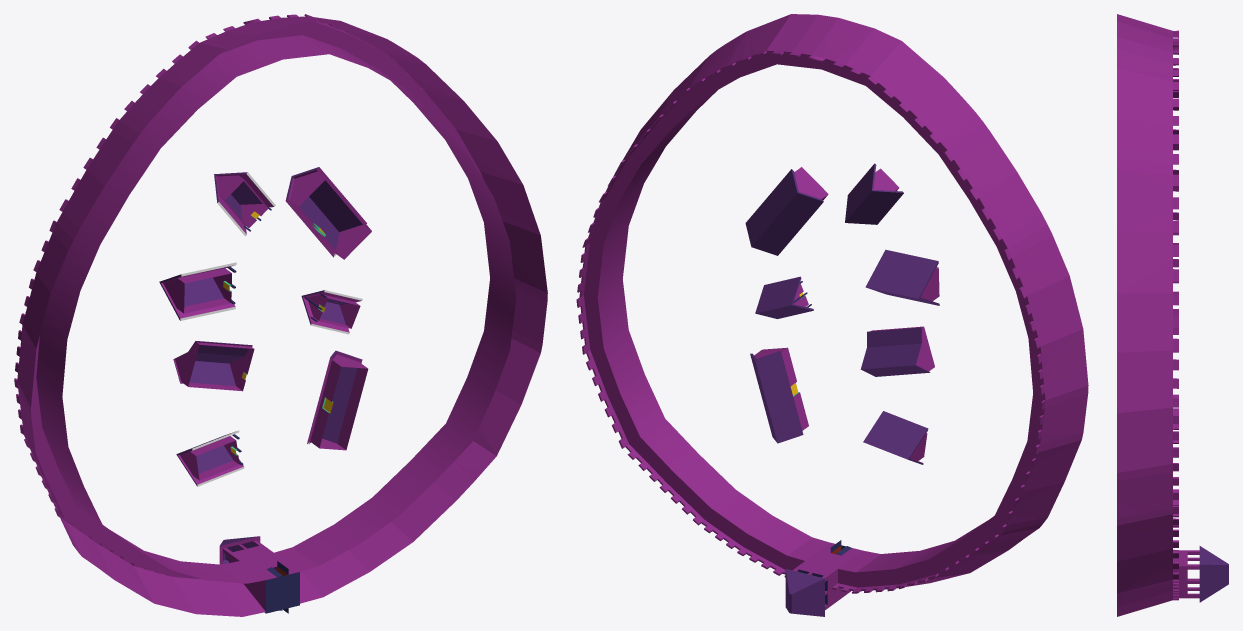
Rendered from Piotrówka Tier 2.fbx.
3 renders of one model, left to right at view 1: azimuth 30°, elevation 25°; view 2: azimuth 150°, elevation 25°; view 3: azimuth 270°, elevation 25°, orthographic. The views are drawn at different scales.
Visible parts, largest first — view 1: Piotrowka; view 2: Piotrowka; view 3: Piotrowka.
Part boxes in pixels (bbox=[...]): Piotrowka: bbox=[14, 14, 547, 616]; Piotrowka: bbox=[576, 14, 1088, 616]; Piotrowka: bbox=[1117, 14, 1228, 616].
Bounding box in the file's own units: 4.35 × 4.73 × 0.8535.
